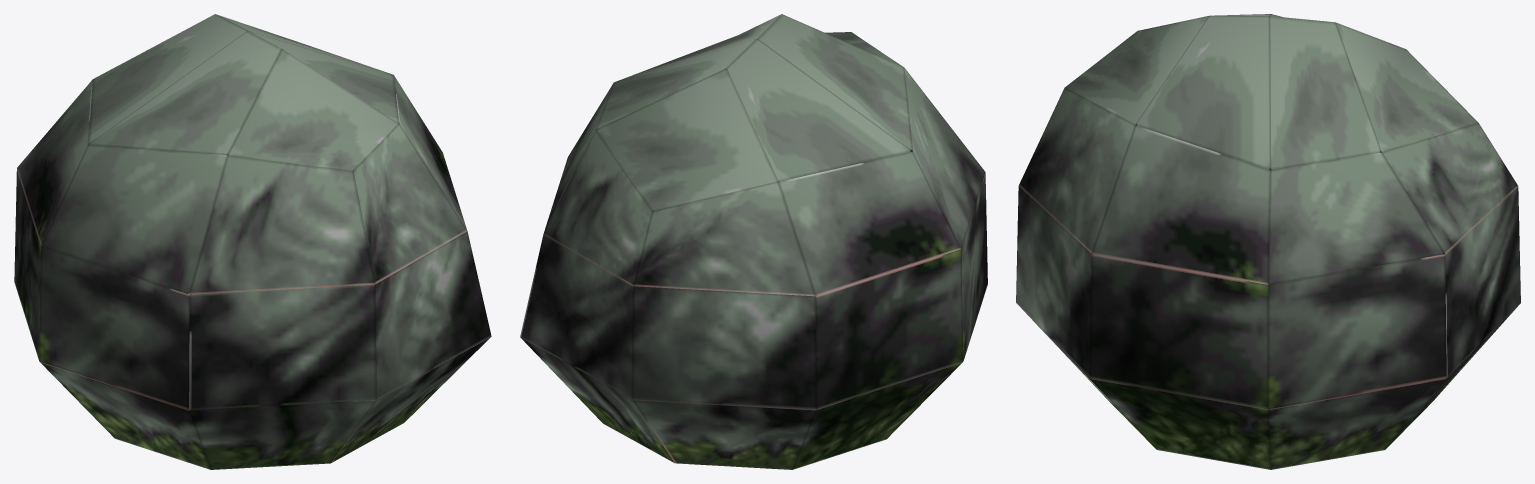
3 renders of one model, left to right at view 1: azimuth 30°, elevation 25°; view 2: azimuth 150°, elevation 25°; view 3: azimuth 270°, elevation 25°, orthographic. The views are drawn at different scales.
Visible parts, largest first — view 1: T1L2M009_32; view 2: T1L2M009_32; view 3: T1L2M009_32.
Boxes of the visible parts, x1=… form: T1L2M009_32: x1=14, y1=14, x2=491, y2=469; T1L2M009_32: x1=520, y1=14, x2=987, y2=469; T1L2M009_32: x1=1016, y1=14, x2=1520, y2=469.
Bounding box in the file's own units: 2.08 × 1.76 × 2.08.
